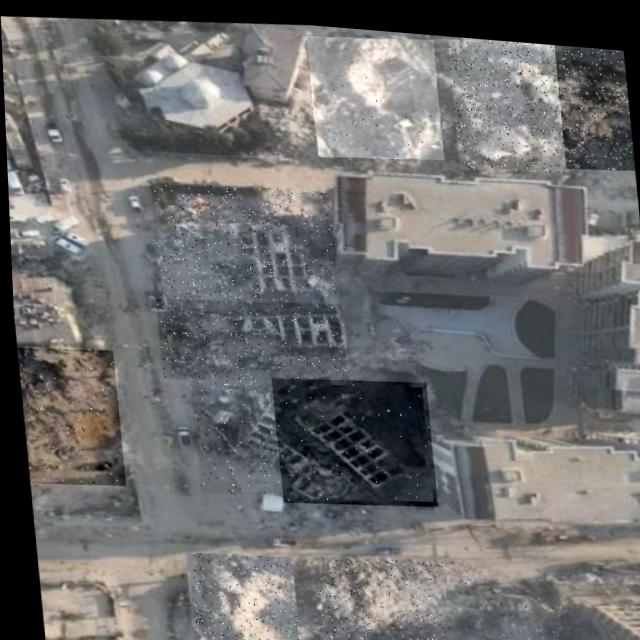Rubble: (150, 173, 337, 311), (267, 366, 433, 508), (185, 368, 350, 500), (152, 287, 345, 389), (305, 25, 443, 159), (446, 29, 568, 169), (13, 343, 121, 489), (307, 546, 445, 640), (179, 544, 295, 640), (553, 35, 633, 163), (442, 564, 561, 640)
